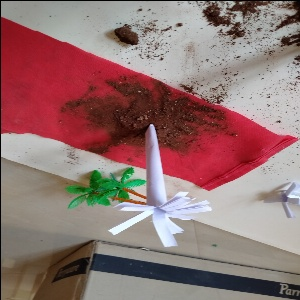plant: (63, 155, 147, 213)
weed: (128, 133, 208, 249)
